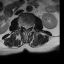CCS_normal: (25, 23, 27, 32)
LFS_stenosis: (29, 24, 31, 29)
LLS_normal: (27, 24, 29, 29)
RFS_normal: (22, 23, 24, 29)
RLS_normal: (24, 24, 26, 30)
